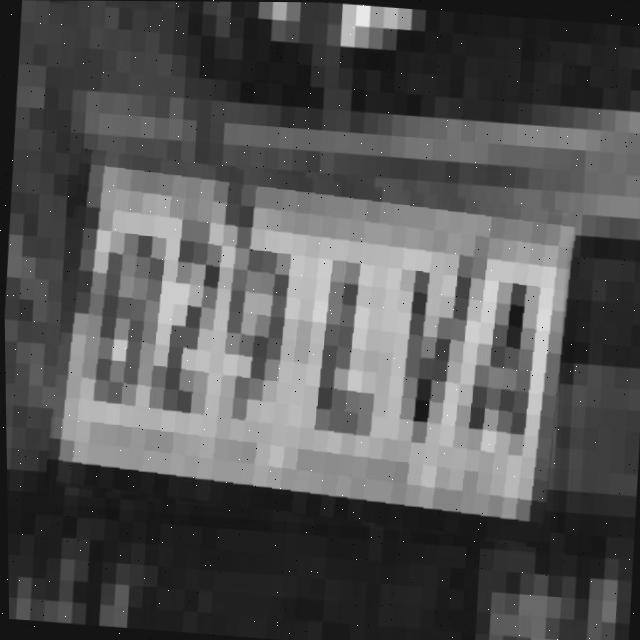LicensePlate: (42, 153, 578, 542)
